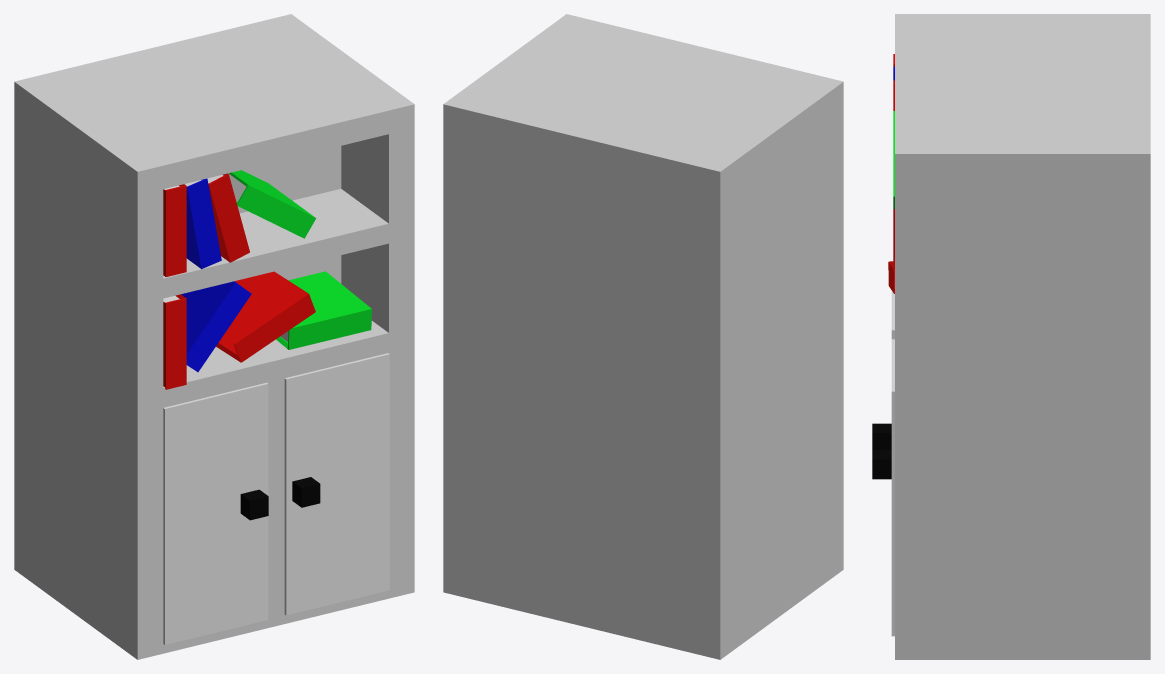
Rendered from BookSheif.fbx.
The picture shows the model from 3 angles, left to right: view 1: azimuth 30°, elevation 25°; view 2: azimuth 150°, elevation 25°; view 3: azimuth 270°, elevation 25°; orthographic projection. The views are drawn at different scales.
Visible parts, largest first — view 1: 立方体, 立方体.004, 立方体.003, 立方体.013, 立方体.014, 立方体.012, 立方体.010, 立方体.001, 立方体.008, 立方体.002, 立方体.005, 立方体.017 (+1 smaller); view 2: 立方体; view 3: 立方体, 立方体.004, 立方体.018, 立方体.017.
Part boxes in pixels (<box>): 立方体: <box>14,14,414,659</box>; 立方体.004: <box>284,353,389,615</box>; 立方体.003: <box>163,382,268,644</box>; 立方体.013: <box>216,271,315,362</box>; 立方体.014: <box>276,271,371,349</box>; 立方体.012: <box>181,281,251,372</box>; 立方体.010: <box>229,170,316,238</box>; 立方体.001: <box>186,178,221,269</box>; 立方体.008: <box>208,173,249,262</box>; 立方体.002: <box>163,294,186,389</box>; 立方体.005: <box>163,184,186,276</box>; 立方体.017: <box>240,489,268,520</box>; 立方体: <box>443,14,843,659</box>; 立方体: <box>895,14,1150,659</box>; 立方体.004: <box>891,339,894,636</box>; 立方体.018: <box>872,450,891,479</box>; 立方体.017: <box>872,423,891,449</box>.
Bounding box in the file's own units: 119 × 200 × 99.79.
